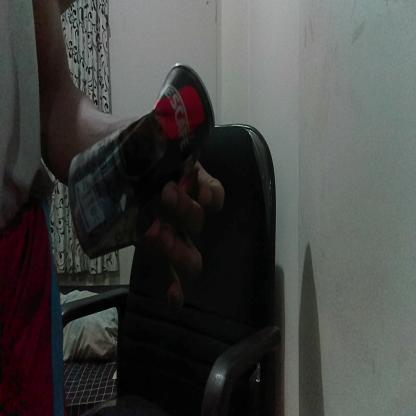alumunium_can: (70, 64, 218, 262)
